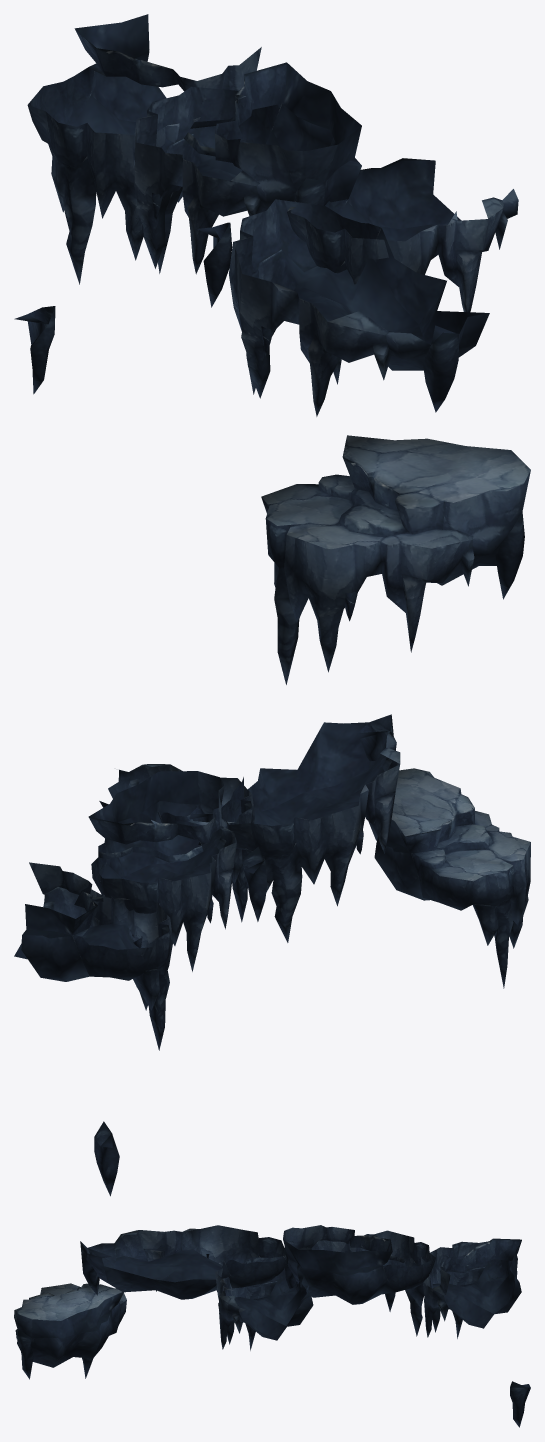
The model's file is Area_01_1.fbx.
3 renders of one model, top to bottom at view 1: azimuth 30°, elevation 25°; view 2: azimuth 150°, elevation 25°; view 3: azimuth 270°, elevation 25°, orthographic. The views are drawn at different scales.
Visible parts, largest first — view 1: Area_01_1; view 2: Area_01_1; view 3: Area_01_1.
Part boxes in pixels (<box>): Area_01_1: <box>14,14,530,684</box>; Area_01_1: <box>14,714,530,1196</box>; Area_01_1: <box>14,1225,530,1427</box>.
Size of the model in its own units: 4834 by 4524 by 9858.
